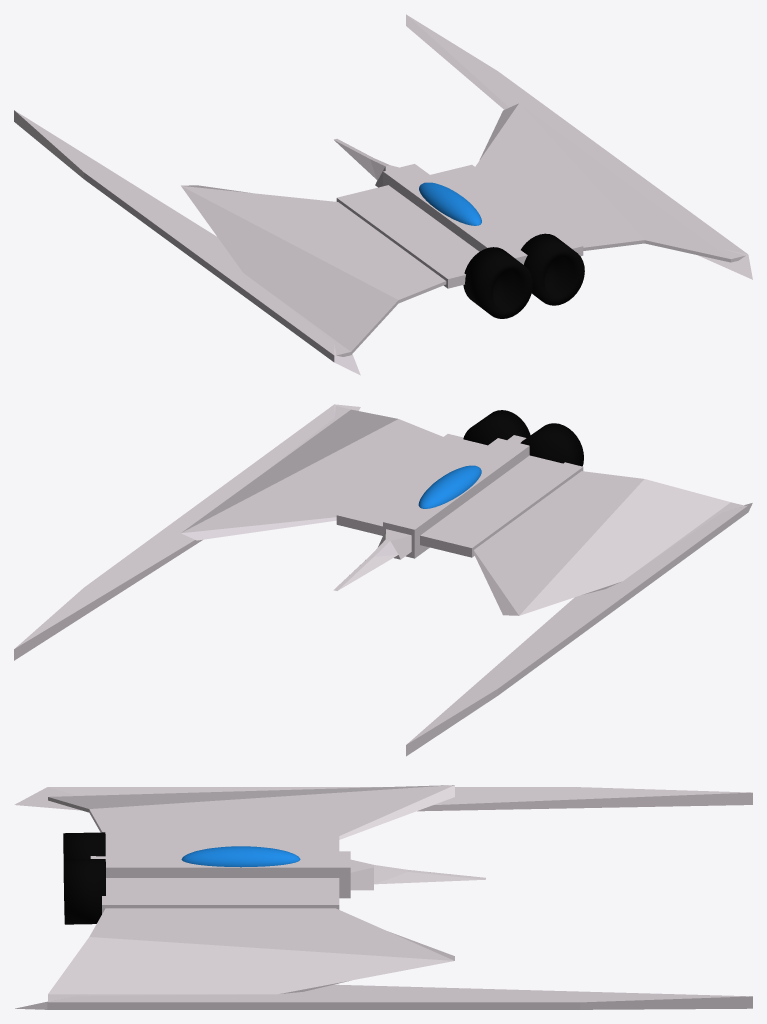
The model's file is Ship.fbx.
3 renders of one model, top to bottom at view 1: azimuth 30°, elevation 25°; view 2: azimuth 150°, elevation 25°; view 3: azimuth 270°, elevation 25°, orthographic. The views are drawn at different scales.
Visible parts, largest first — view 1: Cube.001, Cylinder, Cylinder.001, Sphere.002; view 2: Cube.001, Cylinder, Cylinder.001, Sphere.002; view 3: Cube.001, Cylinder.001, Sphere.002, Cylinder.
Part boxes in pixels (left/top/right/bottom): Cube.001: left=14, top=14, right=752, bottom=375; Cylinder: left=463, top=247, right=532, bottom=318; Cylinder.001: left=521, top=233, right=584, bottom=305; Sphere.002: left=419, top=182, right=481, bottom=225; Cube.001: left=14, top=404, right=752, bottom=756; Cylinder: left=520, top=423, right=583, bottom=466; Cylinder.001: left=463, top=410, right=530, bottom=445; Sphere.002: left=418, top=465, right=481, bottom=508; Cube.001: left=14, top=785, right=752, bottom=1009; Cylinder.001: left=63, top=859, right=105, bottom=924; Sphere.002: left=181, top=846, right=300, bottom=867; Cylinder: left=63, top=832, right=105, bottom=859.
Bounding box in the file's own units: 2331 × 308 × 3383.
